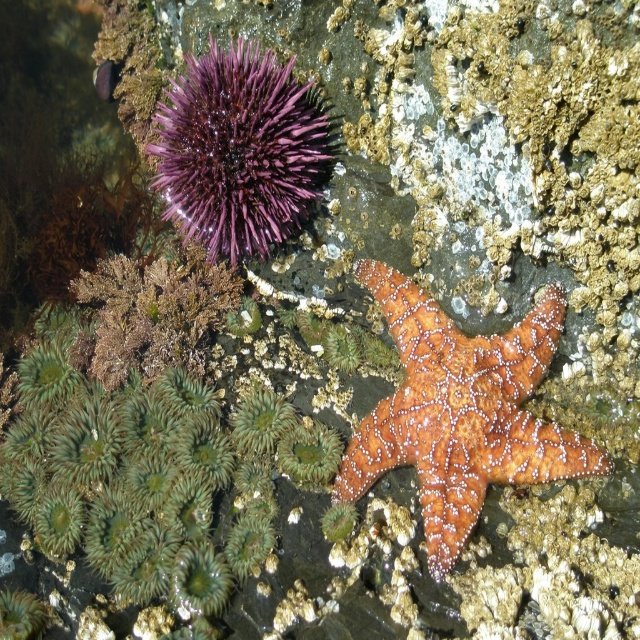Starfish: (331, 258, 616, 582)
